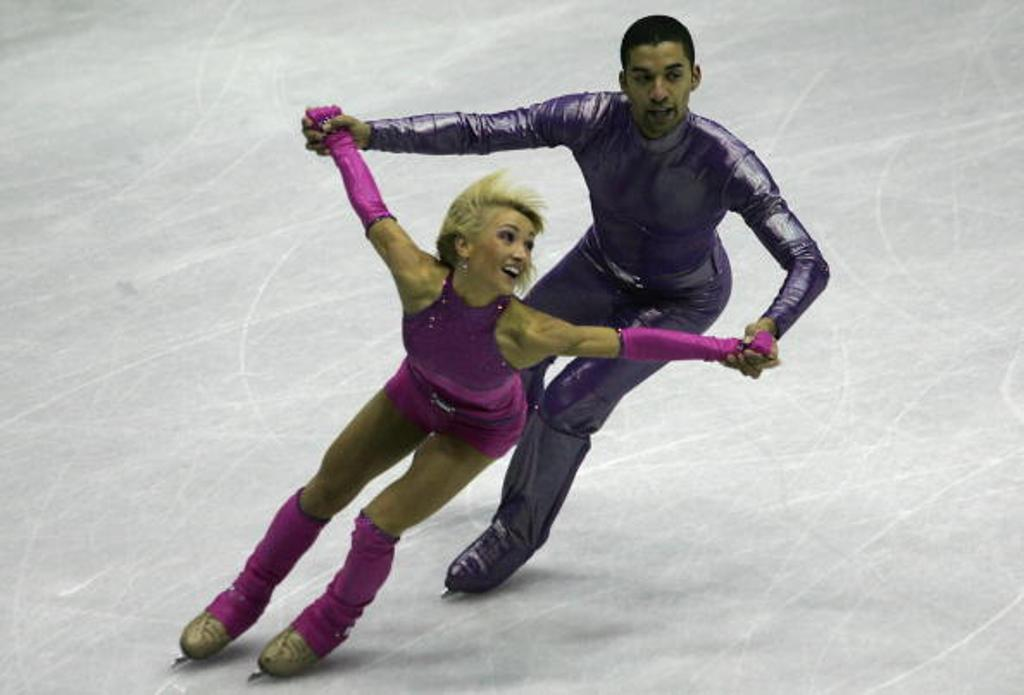face: (626, 38, 694, 128), (476, 204, 534, 294)
